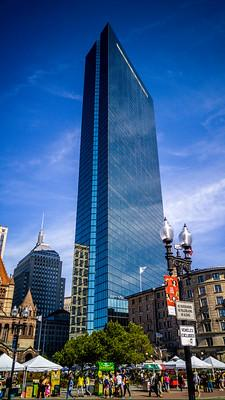building: (68, 19, 176, 358)
